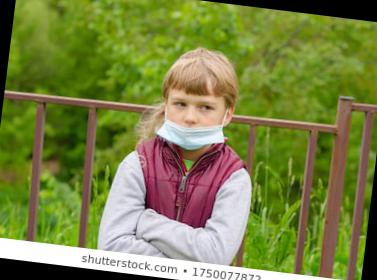mask_weared_incorrect: (166, 96, 220, 148)
